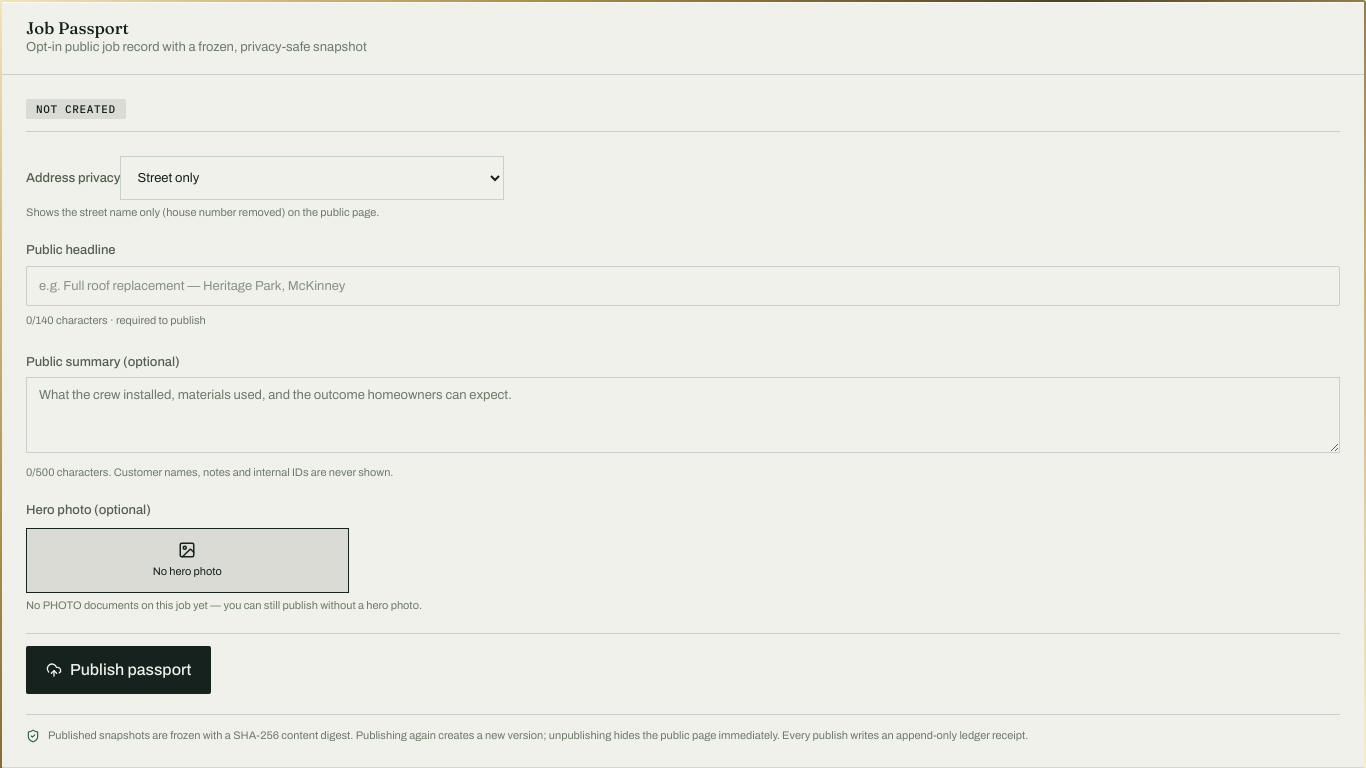
Test case: PassportPanel — publishing › blocks publishing without a headline
Click the button "Publish passport" at (119, 670), box [26,646,211,694]
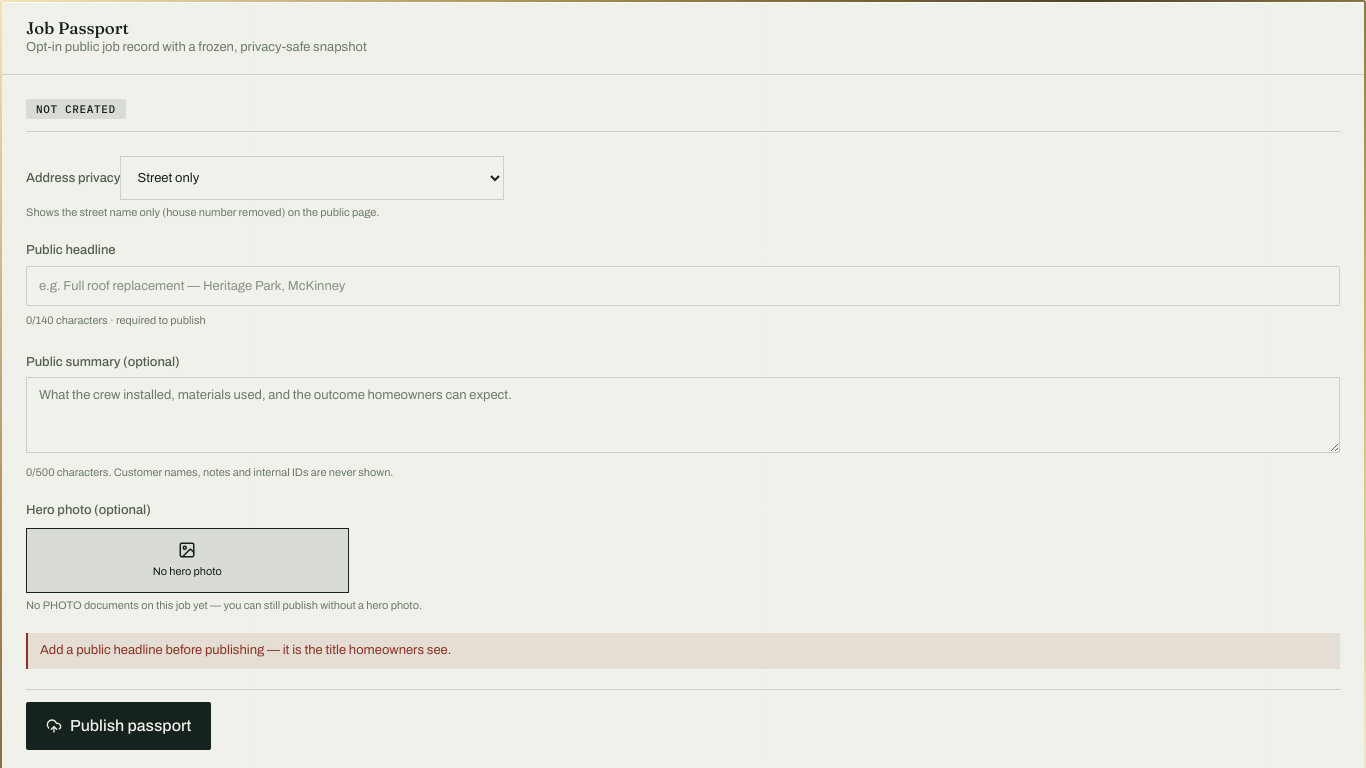
Expected: the text "Add a public headline before publishing — it is the title homeowners see." is shown, [26,633,1340,669]
